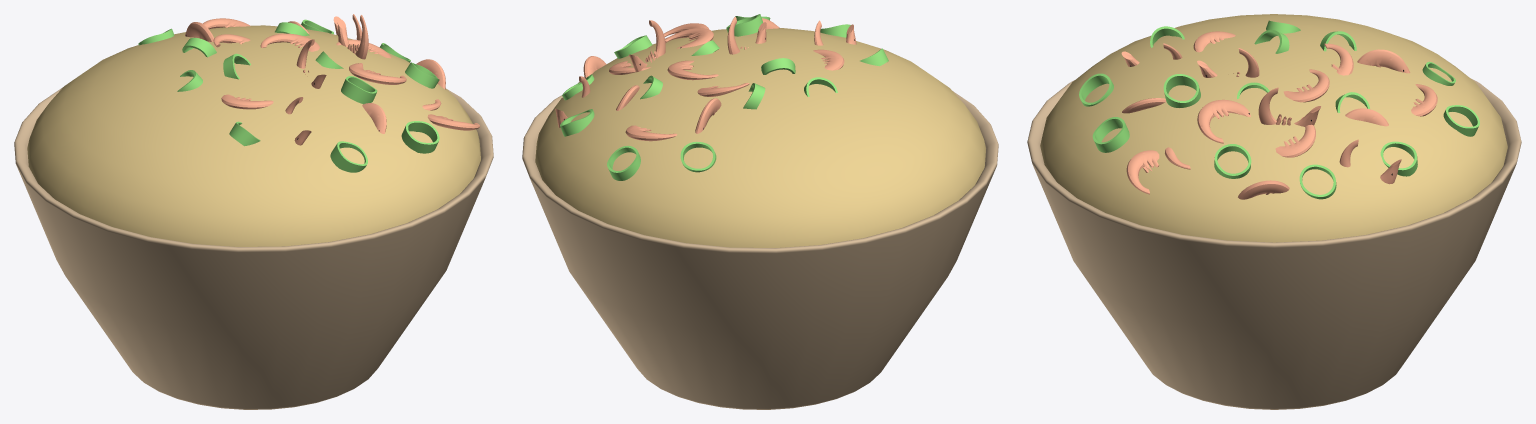
The model's file is Shrimp fried Rice.fbx.
The picture shows the model from 3 angles, left to right: view 1: azimuth 30°, elevation 25°; view 2: azimuth 150°, elevation 25°; view 3: azimuth 270°, elevation 25°; orthographic projection. The views are drawn at different scales.
Parts seen in each view (by area): view 1: Sphere.001, Cylinder.037, Cylinder.002, Cylinder.004, Cylinder.009, Torus.011, Torus.005, Torus.004, Cylinder.006, Torus.016, Torus.012, Torus.010; view 2: Sphere.001, Cylinder.037, Cylinder.003, Torus.011, Torus.005, Torus.004, Cylinder.005, Torus.003, Torus.013, Cylinder.004, Cylinder.006; view 3: Sphere.001, Cylinder.037, Torus.005, Cylinder.002, Torus.011, Torus.012, Torus.006, Cylinder.004, Torus.004, Torus.008, Cylinder.003, Torus.014 (+10 smaller).
Part boxes in pixels (x1=…): Sphere.001: x1=27, y1=25, x2=480, y2=246; Cylinder.037: x1=14, y1=87, x2=493, y2=409; Cylinder.002: x1=401, y1=121, x2=439, y2=153; Cylinder.004: x1=341, y1=76, x2=377, y2=104; Cylinder.009: x1=330, y1=141, x2=367, y2=172; Torus.011: x1=337, y1=15, x2=368, y2=59; Torus.005: x1=349, y1=63, x2=406, y2=84; Torus.004: x1=260, y1=33, x2=319, y2=51; Cylinder.006: x1=405, y1=62, x2=439, y2=88; Torus.016: x1=221, y1=94, x2=273, y2=109; Torus.012: x1=427, y1=114, x2=480, y2=130; Torus.010: x1=362, y1=103, x2=386, y2=133; Sphere.001: x1=535, y1=28, x2=985, y2=247; Cylinder.037: x1=522, y1=91, x2=998, y2=409; Cylinder.003: x1=607, y1=145, x2=640, y2=180; Torus.011: x1=629, y1=20, x2=665, y2=72; Torus.005: x1=665, y1=28, x2=713, y2=48; Torus.004: x1=667, y1=60, x2=718, y2=80; Cylinder.005: x1=560, y1=109, x2=594, y2=136; Torus.003: x1=727, y1=16, x2=766, y2=54; Torus.013: x1=625, y1=125, x2=677, y2=141; Cylinder.004: x1=726, y1=14, x2=762, y2=36; Cylinder.006: x1=614, y1=35, x2=652, y2=58; Sphere.001: x1=1040, y1=14, x2=1507, y2=242; Cylinder.037: x1=1027, y1=78, x2=1521, y2=409; Torus.005: x1=1197, y1=99, x2=1250, y2=143; Cylinder.002: x1=1092, y1=117, x2=1129, y2=152; Torus.011: x1=1258, y1=87, x2=1320, y2=126; Torus.012: x1=1126, y1=150, x2=1159, y2=194; Torus.006: x1=1357, y1=49, x2=1410, y2=73; Cylinder.004: x1=1163, y1=74, x2=1200, y2=107; Torus.004: x1=1283, y1=69, x2=1329, y2=102; Torus.008: x1=1275, y1=117, x2=1315, y2=157; Cylinder.003: x1=1443, y1=105, x2=1479, y2=136; Torus.014: x1=1238, y1=180, x2=1289, y2=199.
Size of the model in its own units: 307 by 226 by 307.
